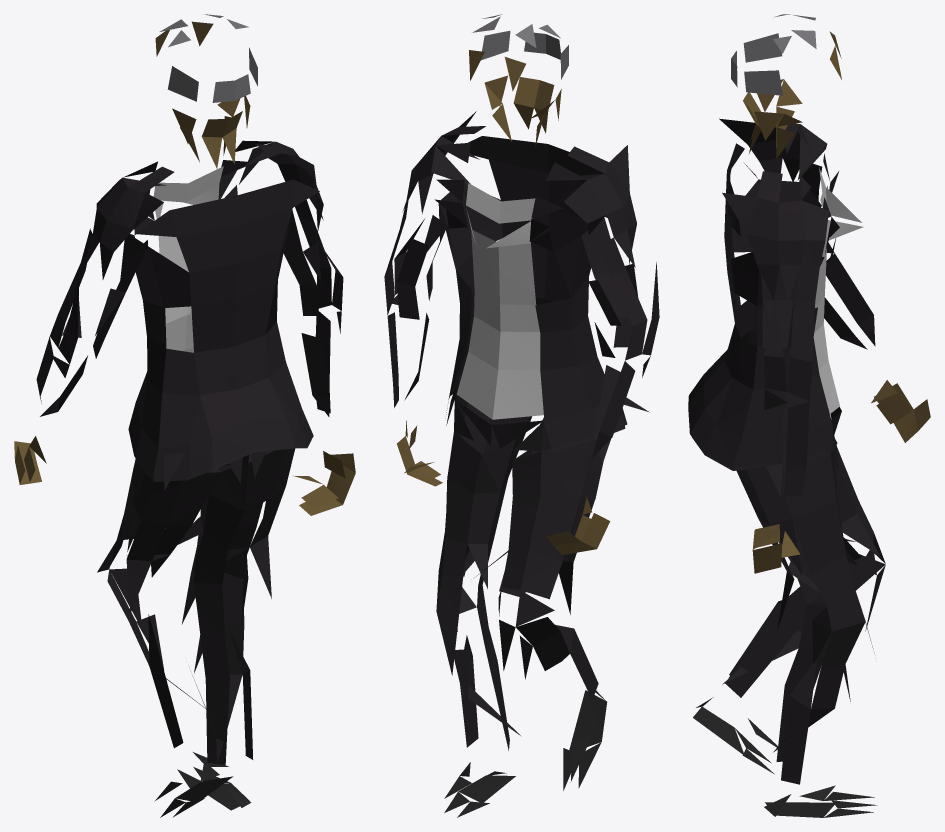
Rendered from personfar_4_w0.fbx.
3 views of the same model, side by side, from view 1: azimuth 30°, elevation 25°; view 2: azimuth 150°, elevation 25°; view 3: azimuth 270°, elevation 25° (orthographic).
Parts seen in each view (by area): view 1: BaseHuman; view 2: BaseHuman; view 3: BaseHuman.
Part boxes in pixels (x1,y1,x2,y2): BaseHuman: [14, 14, 355, 817]; BaseHuman: [384, 14, 659, 817]; BaseHuman: [688, 14, 930, 817].
Bounding box in the file's own units: 0.3563 × 0.9756 × 0.2765.
